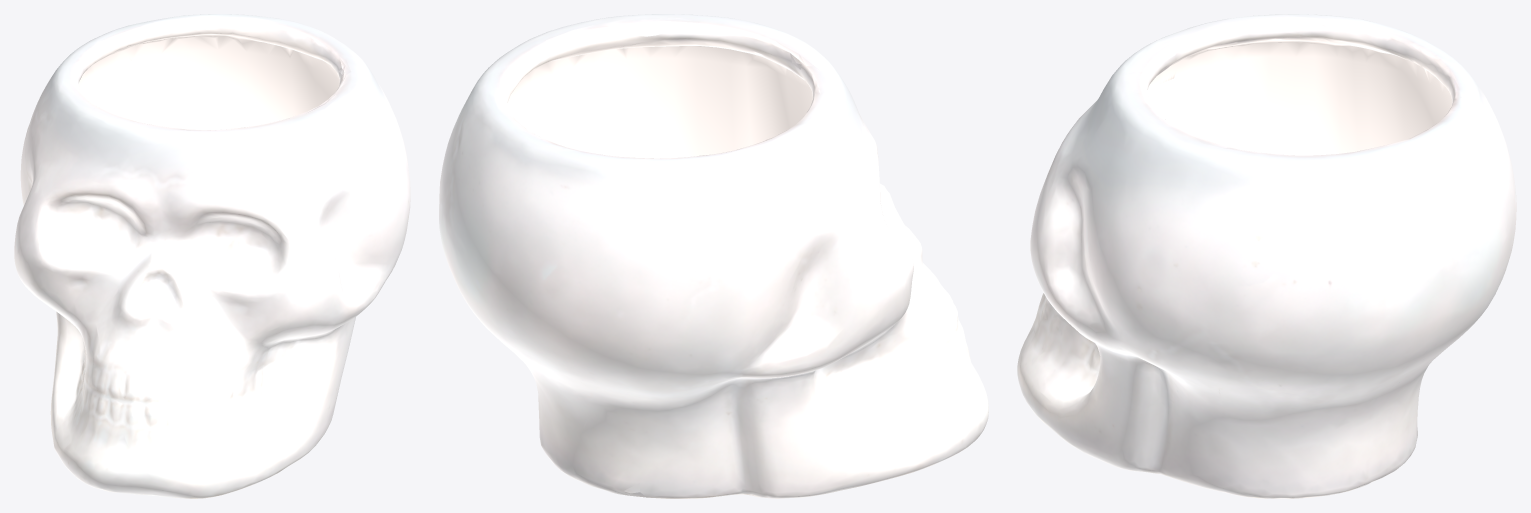
The model's file is Sub_Skull.gltf.
3 renders of one model, left to right at view 1: azimuth 30°, elevation 25°; view 2: azimuth 150°, elevation 25°; view 3: azimuth 270°, elevation 25°, orthographic. The views are drawn at different scales.
Visible parts, largest first — view 1: MDL_Skull; view 2: MDL_Skull; view 3: MDL_Skull.
Part boxes in pixels (x1,y1,x2,y2): MDL_Skull: (14,14,410,498); MDL_Skull: (439,14,988,498); MDL_Skull: (1017,14,1516,498).
Size of the model in its own units: 13.79 by 11.16 by 13.85.
1 material, 1 textured.
